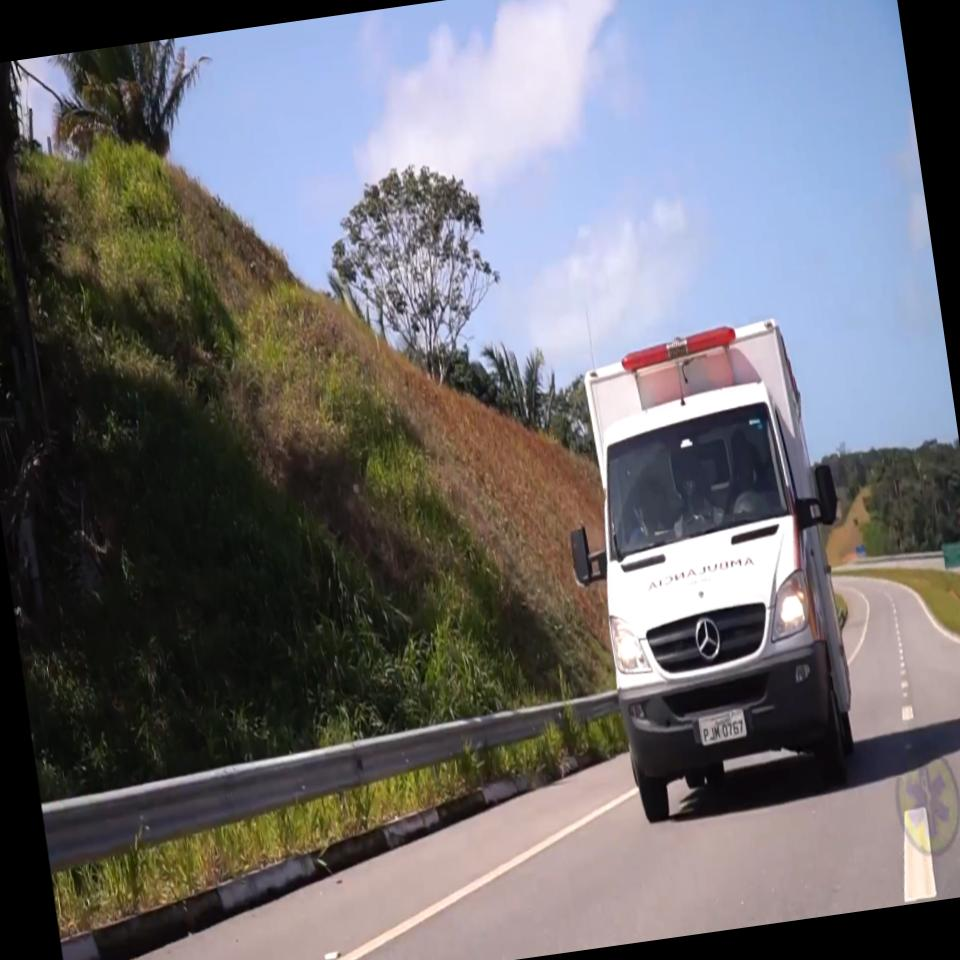bombeiro: (540, 307, 882, 824)
